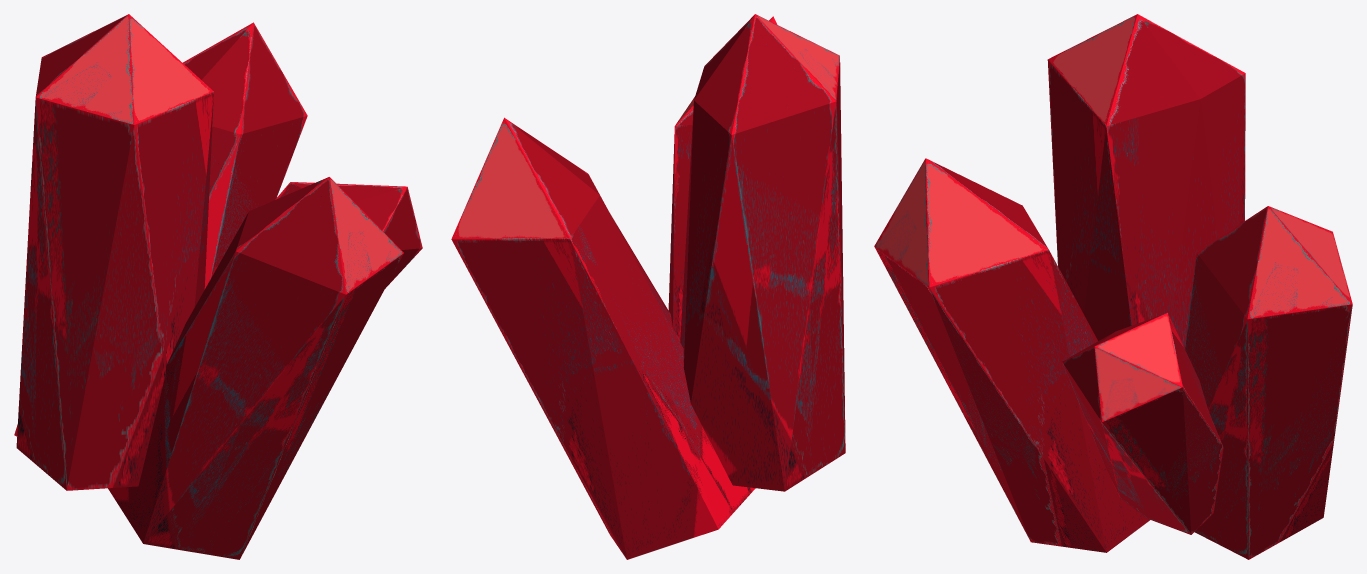
File: Crystal Smal.fbx
The picture shows the model from 3 angles, left to right: view 1: azimuth 30°, elevation 25°; view 2: azimuth 150°, elevation 25°; view 3: azimuth 270°, elevation 25°; orthographic projection. The views are drawn at different scales.
Parts seen in each view (by area): view 1: Icosphere.032_Icosphere.033, Icosphere.033_Icosphere.034, Icosphere.037_Icosphere.038, Icosphere.039_Icosphere.040; view 2: Icosphere.032_Icosphere.033, Icosphere.037_Icosphere.038, Icosphere.033_Icosphere.034; view 3: Icosphere.033_Icosphere.034, Icosphere.032_Icosphere.033, Icosphere.037_Icosphere.038, Icosphere.039_Icosphere.040.
Boxes of the visible parts, bbox=[...] form: Icosphere.032_Icosphere.033: bbox=[16, 14, 213, 490]; Icosphere.033_Icosphere.034: bbox=[108, 177, 403, 559]; Icosphere.037_Icosphere.038: bbox=[14, 22, 307, 436]; Icosphere.039_Icosphere.040: bbox=[214, 182, 422, 288]; Icosphere.032_Icosphere.033: bbox=[680, 14, 845, 491]; Icosphere.037_Icosphere.038: bbox=[451, 117, 755, 559]; Icosphere.033_Icosphere.034: bbox=[668, 16, 777, 340]; Icosphere.033_Icosphere.034: bbox=[874, 158, 1149, 552]; Icosphere.032_Icosphere.033: bbox=[1047, 14, 1245, 348]; Icosphere.037_Icosphere.038: bbox=[1185, 206, 1352, 559]; Icosphere.039_Icosphere.040: bbox=[1062, 312, 1223, 534].
Bounding box in the file's own units: 247 × 337 × 291.
